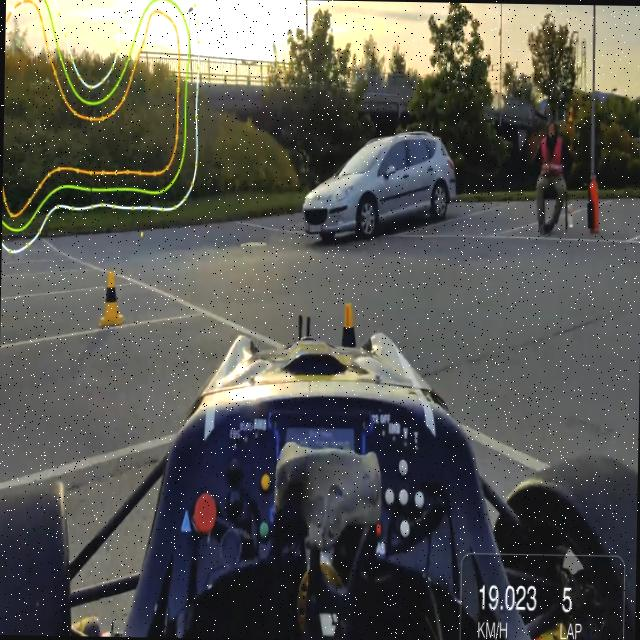yellow_cone: (91, 269, 133, 337), (334, 298, 360, 352)
